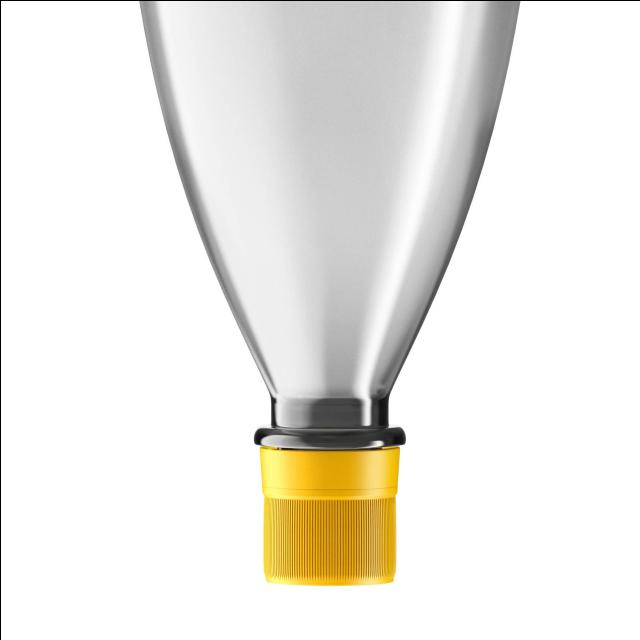neck: (140, 1, 517, 585)
